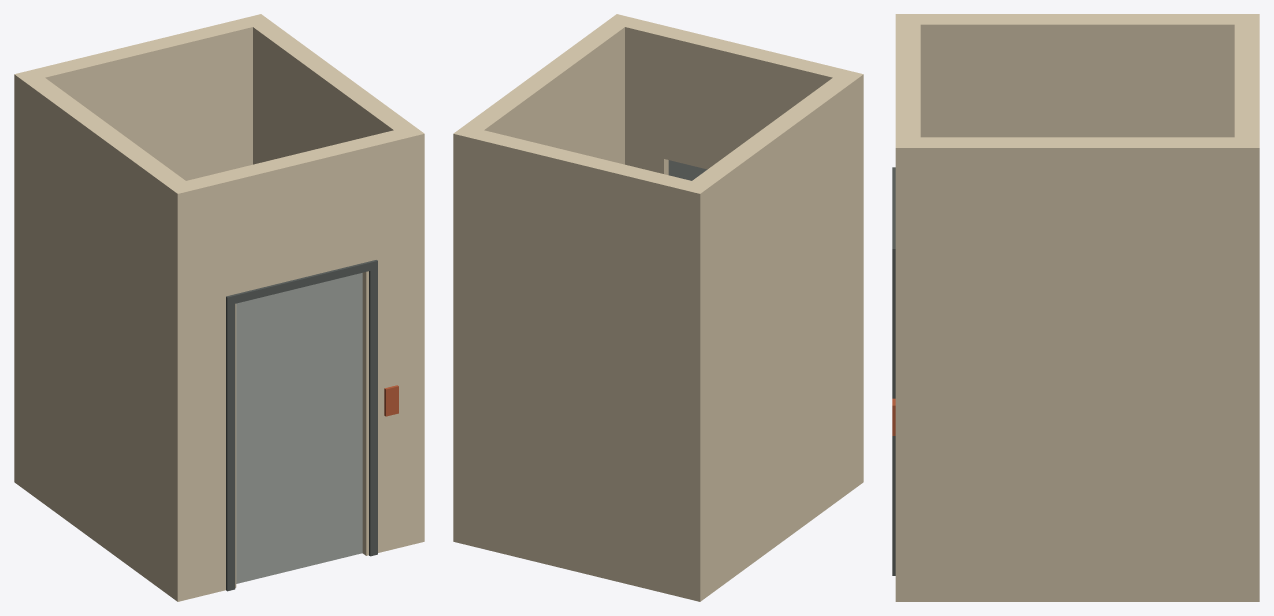
The model's file is lift.glb.
3 renders of one model, left to right at view 1: azimuth 30°, elevation 25°; view 2: azimuth 150°, elevation 25°; view 3: azimuth 270°, elevation 25°, orthographic. The views are drawn at different scales.
Parts seen in each view (by area): view 1: FURN-lift; view 2: FURN-lift; view 3: FURN-lift.
Part boxes in pixels (x1=…): FURN-lift: x1=14, y1=14, x2=424, y2=601; FURN-lift: x1=453, y1=14, x2=863, y2=601; FURN-lift: x1=892, y1=14, x2=1259, y2=601.
Size of the model in its own units: 1.9 by 3 by 2.2.
